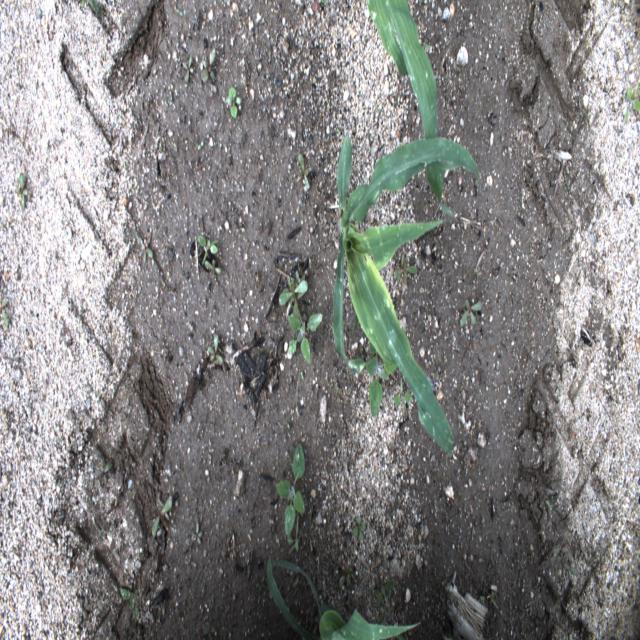crop: (333, 132, 480, 466), (366, 0, 458, 223), (267, 554, 421, 639)
weed: (275, 442, 305, 535), (366, 341, 397, 417), (288, 313, 323, 364), (279, 270, 308, 323), (392, 377, 412, 418), (152, 496, 172, 536), (393, 253, 418, 284), (623, 83, 640, 123), (120, 587, 139, 622), (296, 152, 312, 191), (374, 579, 396, 607), (198, 235, 218, 265), (460, 300, 482, 327), (286, 516, 300, 555), (14, 172, 28, 210), (226, 86, 242, 118), (137, 232, 153, 264), (201, 48, 215, 83), (207, 334, 223, 364), (352, 513, 366, 542), (78, 0, 102, 16), (96, 462, 111, 486), (182, 55, 194, 83), (204, 260, 221, 279), (339, 568, 354, 588), (0, 296, 8, 329), (563, 560, 577, 577), (192, 522, 202, 544), (558, 550, 570, 564), (301, 371, 304, 380)
